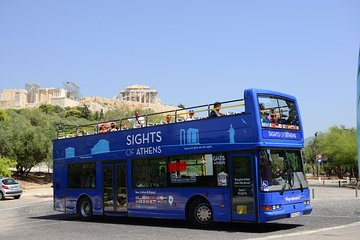bus: (52, 88, 313, 226)
passenger: (1, 175, 22, 199)
